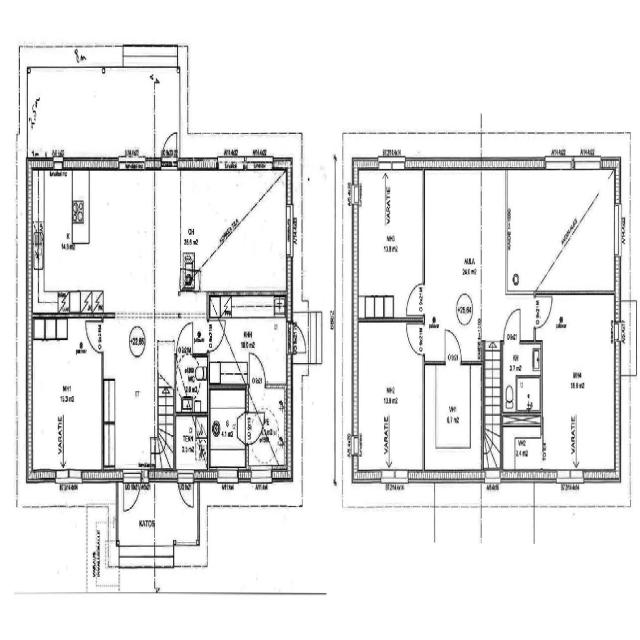door: (120, 468, 142, 516), (246, 350, 268, 393), (441, 324, 463, 366), (404, 318, 427, 358), (82, 316, 105, 356), (404, 279, 425, 319), (502, 305, 522, 345), (534, 292, 553, 332), (287, 320, 306, 359), (206, 318, 226, 354), (175, 318, 194, 355), (190, 319, 209, 356), (176, 472, 194, 511), (161, 130, 179, 164)
window: (284, 200, 296, 262), (244, 154, 276, 177), (612, 200, 624, 261), (571, 154, 603, 175), (554, 466, 582, 489), (54, 468, 84, 488), (544, 154, 574, 174), (214, 464, 240, 486), (249, 466, 274, 486), (390, 466, 411, 489), (118, 155, 146, 172), (385, 155, 408, 173), (53, 154, 65, 170)
zone: (31, 170, 153, 314), (538, 290, 618, 478), (506, 167, 618, 291), (179, 169, 289, 289), (29, 313, 104, 478), (352, 318, 425, 480), (422, 170, 483, 362), (354, 166, 424, 319), (102, 318, 158, 472), (424, 360, 484, 475), (209, 298, 287, 382), (246, 384, 287, 474), (208, 386, 248, 474), (503, 342, 542, 416), (501, 412, 544, 473), (174, 412, 209, 474), (175, 352, 209, 413)
